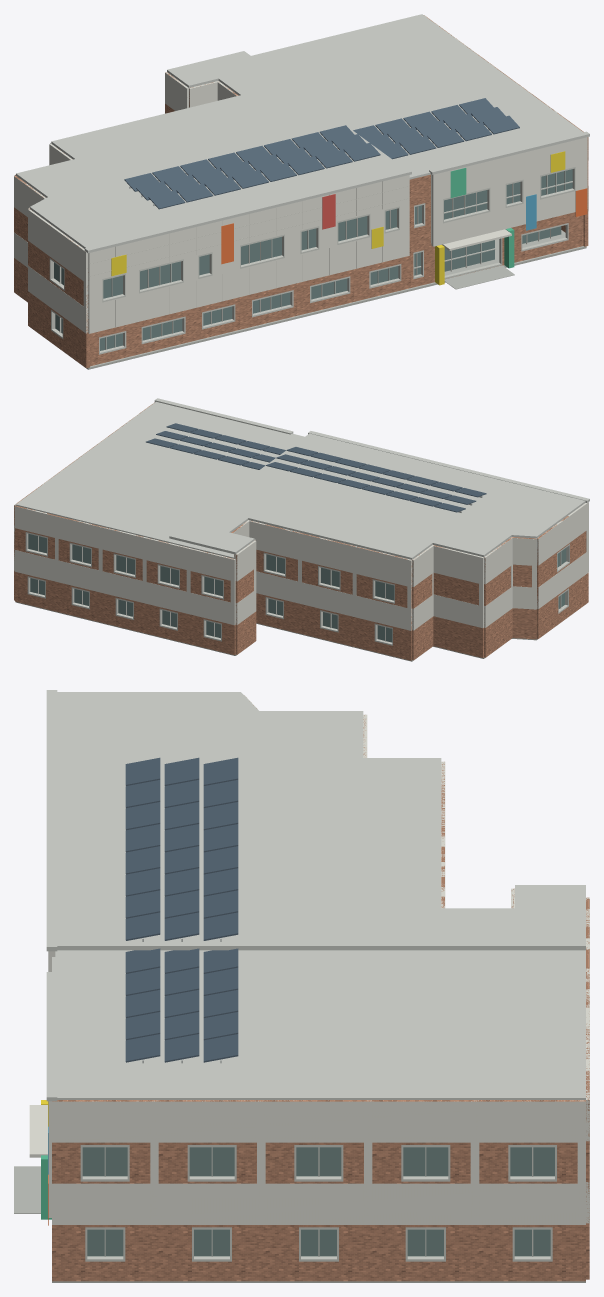
3 views of the same model, one above another, from view 1: azimuth 30°, elevation 25°; view 2: azimuth 150°, elevation 25°; view 3: azimuth 270°, elevation 25° (orthographic). The views are drawn at different scales.
Parts seen in each view (by area): view 1: N19 main raised roof, N19 full upper roof, N19 main upper white wall, N19 photovoltaic panel, N19 entrance upper white wall, N19 lower main brick wall, N19 upper rear white band, N19 estimated rear-side 02 wall, N19 main upper white recessed glass, N19 lower main brick recessed glass, N19 main front coping, N19 ground slab (+22 smaller); view 2: N19 upper rear white band, N19 main raised roof, N19 full upper roof, N19 estimated rear-side 11 wall, N19 photovoltaic panel, N19 estimated rear-side 07 wall, N19 upper rear pier, N19 estimated rear-side 05 wall 0 0, N19 estimated rear-side 11 recessed glass, N19 estimated rear-side 02 wall, N19 estimated rear-side 04 wall 0 0, N19 estimated rear-side 07 recessed glass (+10 smaller); view 3: N19 main raised roof, N19 full upper roof, N19 upper rear white band, N19 estimated rear-side 00 wall, N19 photovoltaic panel, N19 estimated rear-side 00 recessed glass, N19 upper rear pier, N19 estimated rear-side 00 reveal sill head, N19 main front coping, N19 estimated rear-side 00 reveal jamb, N19 right front coping, N19 entranceThreshold (+3 smaller).
Boxes of the visible parts, <box> form: N19 main raised roof: <box>16,51,406,248</box>; N19 full upper roof: <box>251,14,582,179</box>; N19 main upper white wall: <box>88,175,409,333</box>; N19 photovoltaic panel: <box>124,98,519,209</box>; N19 entrance upper white wall: <box>431,137,587,246</box>; N19 lower main brick wall: <box>90,256,407,366</box>; N19 upper rear white band: <box>14,16,588,332</box>; N19 estimated rear-side 02 wall: <box>28,209,89,368</box>; N19 main upper white recessed glass: <box>103,208,396,298</box>; N19 lower main brick recessed glass: <box>100,266,398,350</box>; N19 main front coping: <box>84,169,411,253</box>; N19 ground slab: <box>86,174,586,369</box>; N19 upper rear white band: <box>14,403,586,630</box>; N19 main raised roof: <box>169,433,585,559</box>; N19 full upper roof: <box>15,402,304,558</box>; N19 estimated rear-side 11 wall: <box>15,505,235,654</box>; N19 photovoltaic panel: <box>146,423,486,512</box>; N19 estimated rear-side 07 wall: <box>251,520,411,660</box>; N19 upper rear pier: <box>14,421,588,630</box>; N19 estimated rear-side 05 wall 0 0: <box>433,545,483,657</box>; N19 estimated rear-side 11 recessed glass: <box>28,534,222,638</box>; N19 estimated rear-side 02 wall: <box>537,516,588,638</box>; N19 estimated rear-side 04 wall 0 0: <box>484,537,512,657</box>; N19 estimated rear-side 07 recessed glass: <box>266,554,394,642</box>; N19 main raised roof: <box>57,692,585,950</box>; N19 full upper roof: <box>52,950,585,1099</box>; N19 upper rear white band: <box>52,696,589,1224</box>; N19 estimated rear-side 00 wall: <box>52,1100,585,1281</box>; N19 photovoltaic panel: <box>125,757,238,1062</box>; N19 estimated rear-side 00 recessed glass: <box>82,1147,554,1256</box>; N19 upper rear pier: <box>150,695,589,1224</box>; N19 estimated rear-side 00 reveal sill head: <box>80,1145,556,1261</box>; N19 main front coping: <box>46,690,57,951</box>; N19 estimated rear-side 00 reveal jamb: <box>80,1145,556,1261</box>; N19 right front coping: <box>46,972,57,1101</box>; N19 entranceThreshold: <box>14,1166,40,1213</box>.
Size of the model in its own units: 42.35 by 10.13 by 25.88.
Materials: 14 (1 with a texture image).
